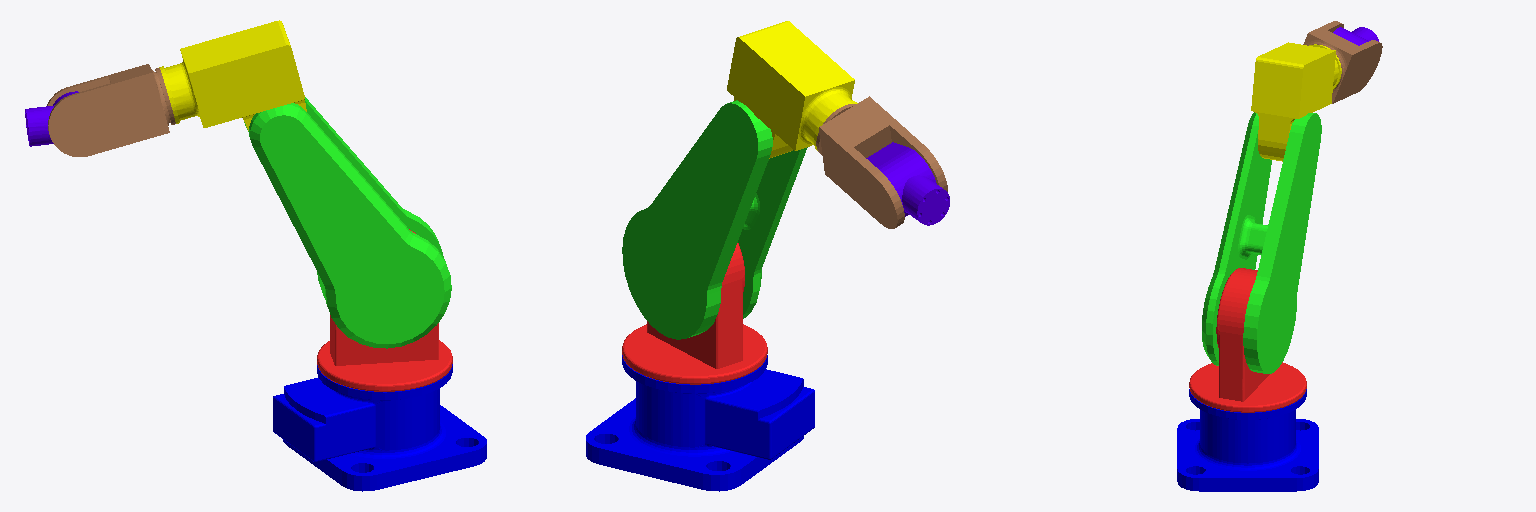
URDF robot description (five_dof_arm):
<?xml version="1.0" encoding="utf-8"?>
<!-- This URDF was automatically created by SolidWorks to URDF Exporter! Originally created by [author] ([email redacted]) 
     Commit Version: 1.6.0-4-g7f85cfe  Build Version: 1.6.7995.38578
     For more information, please see http://wiki.ros.org/sw_urdf_exporter -->
<robot
  name="five_dof_arm">
  <link
    name="base_link">
    <inertial>
      <origin
        xyz="-0.036698 8.6694E-08 0.082351"
        rpy="0 0 0" />
      <mass
        value="116.33" />
      <inertia
        ixx="1.3166"
        ixy="9.8221E-07"
        ixz="0.14401"
        iyy="1.8831"
        iyz="-4.9019E-07"
        izz="2.2864" />
    </inertial>
    <visual>
      <origin
        xyz="0 0 0"
        rpy="0 0 0" />
      <geometry>
        <mesh
          filename="package://five_dof_arm/meshes/base_link.STL" />
      </geometry>
      <material
        name="">
        <color
          rgba="0 0 1 1" />
      </material>
    </visual>
    <collision>
      <origin
        xyz="0 0 0"
        rpy="0 0 0" />
      <geometry>
        <mesh
          filename="package://five_dof_arm/meshes/base_link.STL" />
      </geometry>
    </collision>
  </link>
  <link
    name="L1">
    <inertial>
      <origin
        xyz="-1.6643E-09 -2.7822E-09 -0.19998"
        rpy="0 0 0" />
      <mass
        value="78.961" />
      <inertia
        ixx="1.368"
        ixy="4.399E-07"
        ixz="1.3687E-08"
        iyy="1.5595"
        iyz="-7.928E-09"
        izz="0.54132" />
    </inertial>
    <visual>
      <origin
        xyz="0 0 0"
        rpy="0 0 0" />
      <geometry>
        <mesh
          filename="package://five_dof_arm/meshes/L1.STL" />
      </geometry>
      <material
        name="">
        <color
          rgba="1 0.18824 0.18824 1" />
      </material>
    </visual>
    <collision>
      <origin
        xyz="0 0 0"
        rpy="0 0 0" />
      <geometry>
        <mesh
          filename="package://five_dof_arm/meshes/L1.STL" />
      </geometry>
    </collision>
  </link>
  <joint
    name="J1"
    type="revolute">
    <origin
      xyz="0 0 0.074709"
      rpy="3.1416 0 -0.37541" />
    <parent
      link="base_link" />
    <child
      link="L1" />
    <axis
      xyz="0 0 1" />
    <limit
      lower="0"
      upper="3.142"
      effort="30"
      velocity="3" />
  </joint>
  <link
    name="L2">
    <inertial>
      <origin
        xyz="-0.17131 0.0017377 2.2204E-16"
        rpy="0 0 0" />
      <mass
        value="113.71" />
      <inertia
        ixx="0.49464"
        ixy="-0.0064008"
        ixz="-1.478E-15"
        iyy="4.7884"
        iyz="6.6613E-16"
        izz="4.4699" />
    </inertial>
    <visual>
      <origin
        xyz="0 0 0"
        rpy="0 0 0" />
      <geometry>
        <mesh
          filename="package://five_dof_arm/meshes/L2.STL" />
      </geometry>
      <material
        name="">
        <color
          rgba="0.2 1 0.2 1" />
      </material>
    </visual>
    <collision>
      <origin
        xyz="0 0 0"
        rpy="0 0 0" />
      <geometry>
        <mesh
          filename="package://five_dof_arm/meshes/L2.STL" />
      </geometry>
    </collision>
  </link>
  <joint
    name="J2"
    type="revolute">
    <origin
      xyz="0 0 -0.36529"
      rpy="-3.1416 -1.0316 0" />
    <parent
      link="L1" />
    <child
      link="L2" />
    <axis
      xyz="0 1 0" />
    <limit
      lower="-1.57"
      upper="1.57"
      effort="30"
      velocity="10" />
  </joint>
  <link
    name="L3">
    <inertial>
      <origin
        xyz="-5.0468E-10 -0.05636 0.12694"
        rpy="0 0 0" />
      <mass
        value="53.404" />
      <inertia
        ixx="0.56565"
        ixy="-6.219E-09"
        ixz="-1.4898E-08"
        iyy="0.28458"
        iyz="0.053644"
        izz="0.43901" />
    </inertial>
    <visual>
      <origin
        xyz="0 0 0"
        rpy="0 0 0" />
      <geometry>
        <mesh
          filename="package://five_dof_arm/meshes/L3.STL" />
      </geometry>
      <material
        name="">
        <color
          rgba="1 1 0 1" />
      </material>
    </visual>
    <collision>
      <origin
        xyz="0 0 0"
        rpy="0 0 0" />
      <geometry>
        <mesh
          filename="package://five_dof_arm/meshes/L3.STL" />
      </geometry>
    </collision>
  </link>
  <joint
    name="J3"
    type="revolute">
    <origin
      xyz="-0.5 0 0"
      rpy="1.2739 0 -1.5708" />
    <parent
      link="L2" />
    <child
      link="L3" />
    <axis
      xyz="1 0 0" />
    <limit
      lower="-.157"
      upper="1.57"
      effort="30"
      velocity="3" />
  </joint>
  <link
    name="L4">
    <inertial>
      <origin
        xyz="7.4797E-11 0.24268 -2.8358E-10"
        rpy="0 0 0" />
      <mass
        value="34.299" />
      <inertia
        ixx="0.25777"
        ixy="3.0811E-10"
        ixz="-1.7427E-09"
        iyy="0.11336"
        iyz="-5.0709E-10"
        izz="0.24606" />
    </inertial>
    <visual>
      <origin
        xyz="0 0 0"
        rpy="0 0 0" />
      <geometry>
        <mesh
          filename="package://five_dof_arm/meshes/L4.STL" />
      </geometry>
      <material
        name="">
        <color
          rgba="0.70196 0.50588 0.36471 1" />
      </material>
    </visual>
    <collision>
      <origin
        xyz="0 0 0"
        rpy="0 0 0" />
      <geometry>
        <mesh
          filename="package://five_dof_arm/meshes/L4.STL" />
      </geometry>
    </collision>
  </link>
  <joint
    name="J4"
    type="revolute">
    <origin
      xyz="0 -0.10716 0.145"
      rpy="0 -1.2765 3.1416" />
    <parent
      link="L3" />
    <child
      link="L4" />
    <axis
      xyz="0 1 0" />
    <limit
      lower="0"
      upper="3.14"
      effort="30"
      velocity="3" />
  </joint>
  <link
    name="L5">
    <inertial>
      <origin
        xyz="-9.2825E-08 2.7598E-08 -0.0081668"
        rpy="0 0 0" />
      <mass
        value="9.3568" />
      <inertia
        ixx="0.048788"
        ixy="2.1735E-08"
        ixz="-3.2988E-08"
        iyy="0.052818"
        iyz="3.4112E-09"
        izz="0.017702" />
    </inertial>
    <visual>
      <origin
        xyz="0 0 0"
        rpy="0 0 0" />
      <geometry>
        <mesh
          filename="package://five_dof_arm/meshes/L5.STL" />
      </geometry>
      <material
        name="">
        <color
          rgba="0.4 0 1 1" />
      </material>
    </visual>
    <collision>
      <origin
        xyz="0 0 0"
        rpy="0 0 0" />
      <geometry>
        <mesh
          filename="package://five_dof_arm/meshes/L5.STL" />
      </geometry>
    </collision>
  </link>
  <joint
    name="J5"
    type="revolute">
    <origin
      xyz="0 0.34684 0"
      rpy="-1.5708 0 2.9789" />
    <parent
      link="L4" />
    <child
      link="L5" />
    <axis
      xyz="0 -1 0" />
    <limit
      lower="-1.57"
      upper="1.57"
      effort="30"
      velocity="10" />
  </joint>
</robot>

--- Render facts (derived) ---
The picture shows the robot from 3 angles, left to right: view 1: azimuth 30°, elevation 25°; view 2: azimuth 150°, elevation 25°; view 3: azimuth 270°, elevation 25°; orthographic projection.
Model five_dof_arm with 6 links and 5 joints (5 revolute), rooted at base_link, posed every joint at zero.
Visible links, largest first — view 1: L2, base_link, L3, L4, L1, L5; view 2: L2, base_link, L3, L1, L4, L5; view 3: L2, base_link, L1, L3, L4.
Boxes of the visible links, x1=… form: L2: x1=244, y1=97, x2=451, y2=348; base_link: x1=273, y1=364, x2=486, y2=491; L3: x1=159, y1=20, x2=306, y2=130; L4: x1=47, y1=64, x2=175, y2=156; L1: x1=317, y1=229, x2=452, y2=391; L5: x1=25, y1=91, x2=78, y2=146; L2: x1=622, y1=100, x2=807, y2=339; base_link: x1=586, y1=355, x2=814, y2=491; L3: x1=727, y1=21, x2=857, y2=158; L1: x1=622, y1=243, x2=767, y2=384; L4: x1=816, y1=96, x2=947, y2=228; L5: x1=866, y1=142, x2=949, y2=225; L2: x1=1202, y1=112, x2=1321, y2=373; base_link: x1=1177, y1=389, x2=1318, y2=491; L1: x1=1189, y1=268, x2=1306, y2=412; L3: x1=1251, y1=42, x2=1341, y2=161; L4: x1=1303, y1=21, x2=1382, y2=103.
Bounding box of the posed robot: 1 × 0.5591 × 1.1 m (x, y, z).
6 mesh visuals loaded from 6 distinct referenced files (6 binary STL).